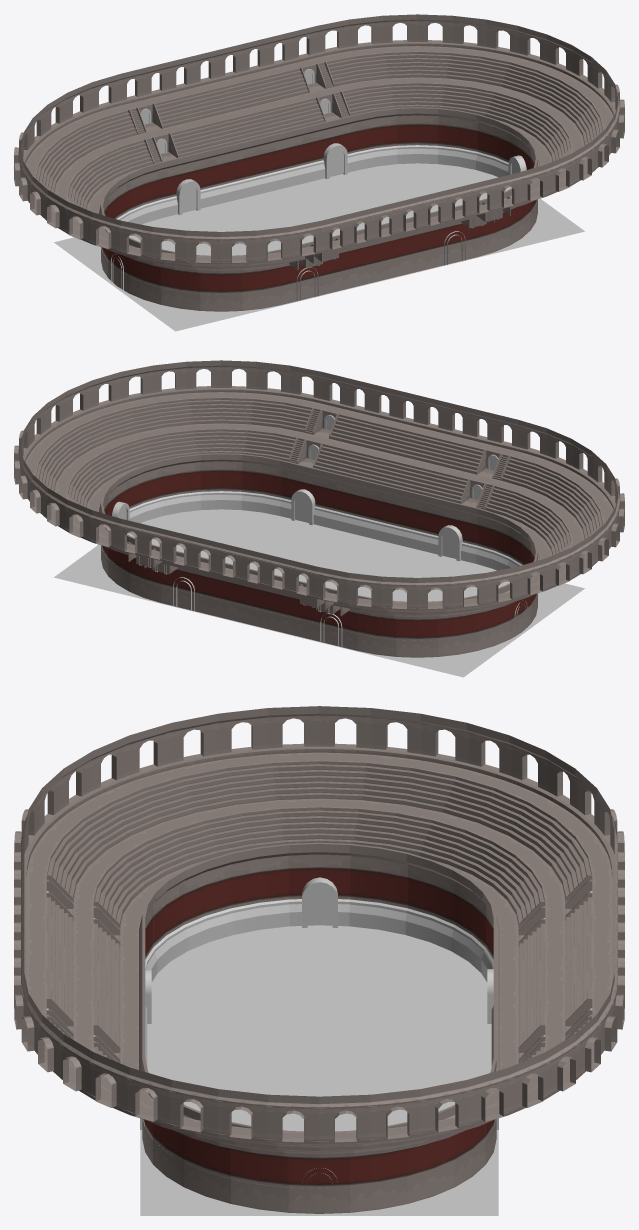
The model's file is Arena.fbx.
The picture shows the model from 3 angles, top to bottom: view 1: azimuth 30°, elevation 25°; view 2: azimuth 150°, elevation 25°; view 3: azimuth 270°, elevation 25°; orthographic projection. The views are drawn at different scales.
Parts seen in each view (by area): view 1: ArenaCurved2, ArenaCurved1, ArenaGrounds, ArenaStraight3, ArenaStraight2, ArenaStraight4, ArenaStraight1, ArenaDirtRim, ArenaStraight8, ArenaStraight5, ArenaStraight7, ArenaStraight6 (+2 smaller); view 2: ArenaCurved2, ArenaCurved1, ArenaGrounds, ArenaStraight7, ArenaStraight6, ArenaStraight8, ArenaStraight5, ArenaDirtRim, ArenaStraight4, ArenaStraight1, ArenaStraight3, ArenaStraight2 (+2 smaller); view 3: ArenaCurved1, ArenaCurved2, ArenaGrounds, ArenaDirtRim, ArenaStraight1, ArenaStraight5, ArenaStraight2, ArenaStraight6, ArenaStraight3, ArenaStraight7, ArenaStraight8, ArenaStraight4 (+1 smaller).
Part boxes in pixels (x1=…): ArenaCurved2: x1=316, y1=14, x2=624, y2=256; ArenaCurved1: x1=14, y1=74, x2=322, y2=311; ArenaGrounds: x1=54, y1=175, x2=584, y2=331; ArenaStraight3: x1=218, y1=38, x2=309, y2=193; ArenaStraight2: x1=169, y1=50, x2=260, y2=205; ArenaStraight4: x1=267, y1=26, x2=358, y2=181; ArenaStraight1: x1=120, y1=62, x2=211, y2=217; ArenaDirtRim: x1=129, y1=163, x2=511, y2=241; ArenaStraight8: x1=428, y1=173, x2=518, y2=268; ArenaStraight5: x1=281, y1=208, x2=371, y2=304; ArenaStraight7: x1=379, y1=184, x2=469, y2=280; ArenaStraight6: x1=330, y1=196, x2=420, y2=292; ArenaCurved2: x1=14, y1=360, x2=322, y2=602; ArenaCurved1: x1=316, y1=420, x2=624, y2=657; ArenaGrounds: x1=54, y1=521, x2=584, y2=677; ArenaStraight7: x1=329, y1=384, x2=420, y2=539; ArenaStraight6: x1=378, y1=396, x2=469, y2=551; ArenaStraight8: x1=280, y1=372, x2=371, y2=527; ArenaStraight5: x1=427, y1=408, x2=518, y2=563; ArenaDirtRim: x1=127, y1=509, x2=509, y2=587; ArenaStraight4: x1=120, y1=519, x2=210, y2=614; ArenaStraight1: x1=267, y1=554, x2=357, y2=650; ArenaStraight3: x1=169, y1=530, x2=259, y2=626; ArenaStraight2: x1=218, y1=542, x2=308, y2=638; ArenaCurved1: x1=14, y1=706, x2=624, y2=982; ArenaCurved2: x1=14, y1=973, x2=624, y2=1213; ArenaGrounds: x1=140, y1=942, x2=498, y2=1215; ArenaDirtRim: x1=147, y1=925, x2=491, y2=1106; ArenaStraight1: x1=491, y1=838, x2=624, y2=1018; ArenaStraight5: x1=14, y1=838, x2=147, y2=1018; ArenaStraight2: x1=491, y1=874, x2=624, y2=1053; ArenaStraight6: x1=14, y1=874, x2=147, y2=1053; ArenaStraight3: x1=491, y1=909, x2=624, y2=1066; ArenaStraight7: x1=14, y1=909, x2=147, y2=1066; ArenaStraight8: x1=14, y1=944, x2=145, y2=1069; ArenaStraight4: x1=493, y1=944, x2=624, y2=1069.
Bounding box in the file's own units: 17201 × 3366 × 11138.
